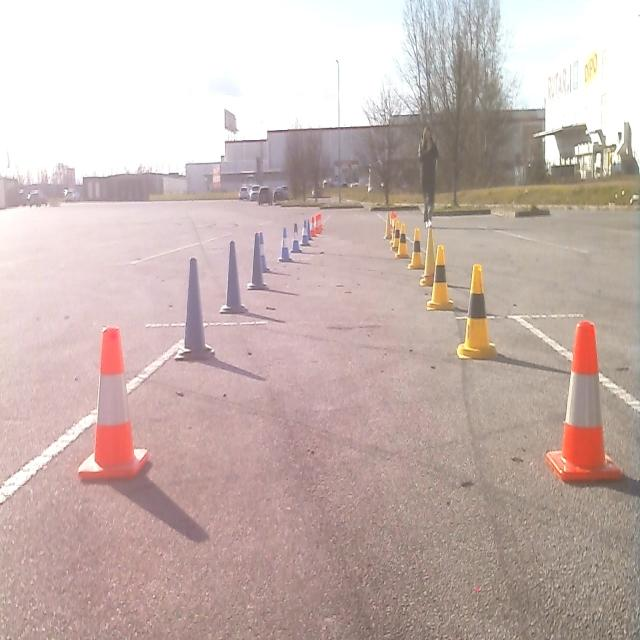blue_cone: (175, 256, 215, 362), (220, 242, 248, 314), (249, 233, 268, 291), (278, 228, 294, 262), (258, 233, 270, 273), (290, 223, 302, 253), (300, 221, 310, 246)
orange_cone: (544, 316, 624, 487), (315, 213, 323, 235), (310, 216, 317, 238)
yellow_cone: (77, 322, 150, 482), (456, 260, 498, 361), (426, 242, 454, 312), (418, 224, 436, 286), (407, 224, 424, 270), (395, 220, 409, 258), (384, 212, 394, 240)
